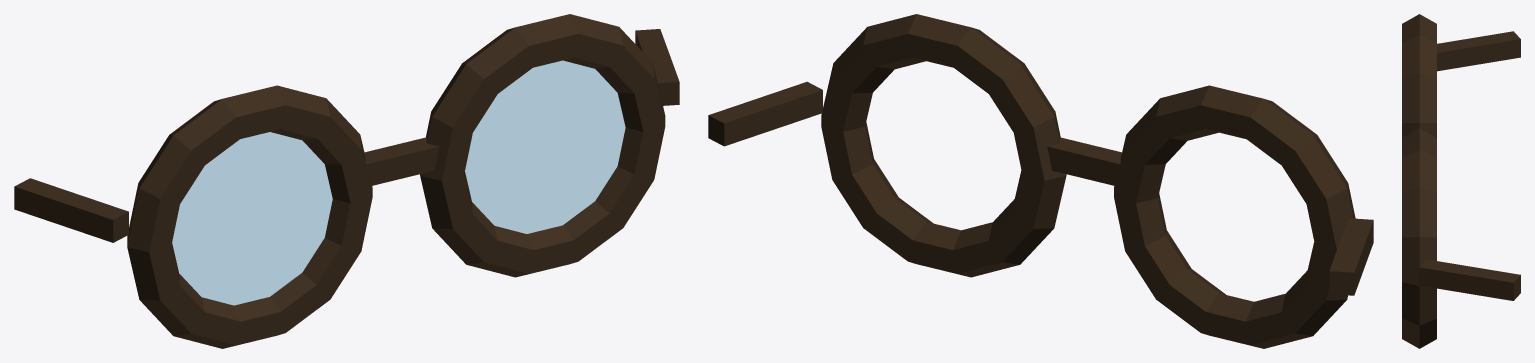
The model's file is disguise_glasses.glb.
3 renders of one model, left to right at view 1: azimuth 30°, elevation 25°; view 2: azimuth 150°, elevation 25°; view 3: azimuth 270°, elevation 25°, orthographic. The views are drawn at different scales.
Parts seen in each view (by area): view 1: frame_glasses_frame, lens_glasses_lens; view 2: frame_glasses_frame; view 3: frame_glasses_frame.
Part boxes in pixels (x1,y1,x2,y2): frame_glasses_frame: (14,14,679,348); lens_glasses_lens: (172,60,625,305); frame_glasses_frame: (708,14,1373,348); frame_glasses_frame: (1402,14,1520,348).
Bounding box in the file's own units: 0.3529 × 0.1306 × 0.0705.
